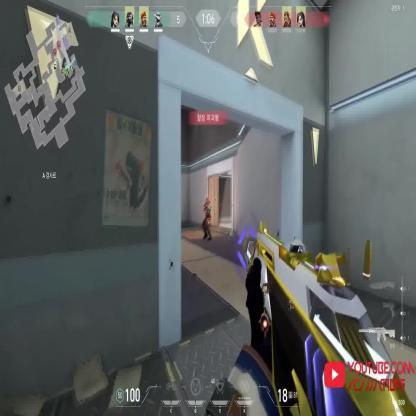enemy: (200, 196, 214, 241)
enemy_head: (206, 197, 210, 206)
